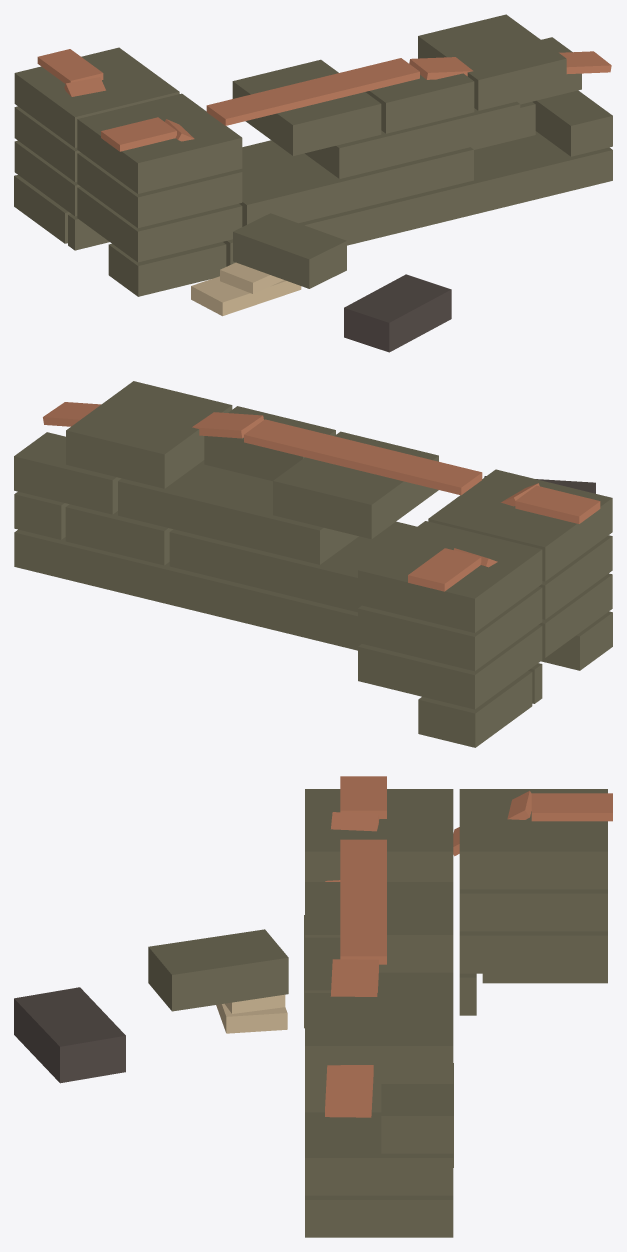
File: SM_SacosRemate_v3_Tablon_e1_Danado_LOD1.fbx
3 views of the same model, one above another, from view 1: azimuth 30°, elevation 25°; view 2: azimuth 150°, elevation 25°; view 3: azimuth 270°, elevation 25° (orthographic). The views are drawn at different scales.
Visible parts, largest first — view 1: SM_sacos_piezas_v33_LOD1; view 2: SM_sacos_piezas_v33_LOD1; view 3: SM_sacos_piezas_v33_LOD1.
Boxes of the visible parts, box(x1,y1,x2,y2) form: SM_sacos_piezas_v33_LOD1: box(14, 14, 612, 352); SM_sacos_piezas_v33_LOD1: box(14, 381, 612, 747); SM_sacos_piezas_v33_LOD1: box(14, 776, 612, 1237).
Size of the model in its own units: 4.46 by 1.26 by 3.87.
